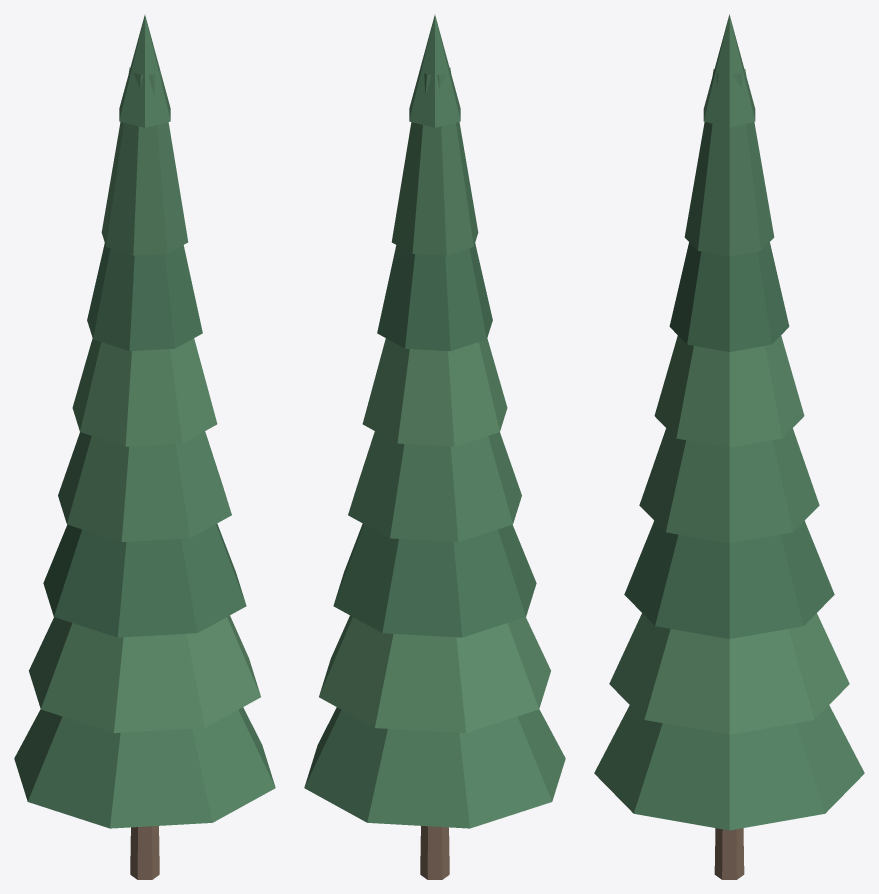
File: sugi_cedar_tall.glb
3 views of the same model, side by side, from view 1: azimuth 30°, elevation 25°; view 2: azimuth 150°, elevation 25°; view 3: azimuth 270°, elevation 25° (orthographic).
Parts seen in each view (by area): view 1: sugi_cedar_tall; view 2: sugi_cedar_tall; view 3: sugi_cedar_tall.
Part boxes in pixels (x1,y1,x2,y2): sugi_cedar_tall: [14, 15, 275, 879]; sugi_cedar_tall: [304, 15, 565, 879]; sugi_cedar_tall: [594, 14, 864, 879].
Bounding box in the file's own units: 6.4 × 22.44 × 6.4.
